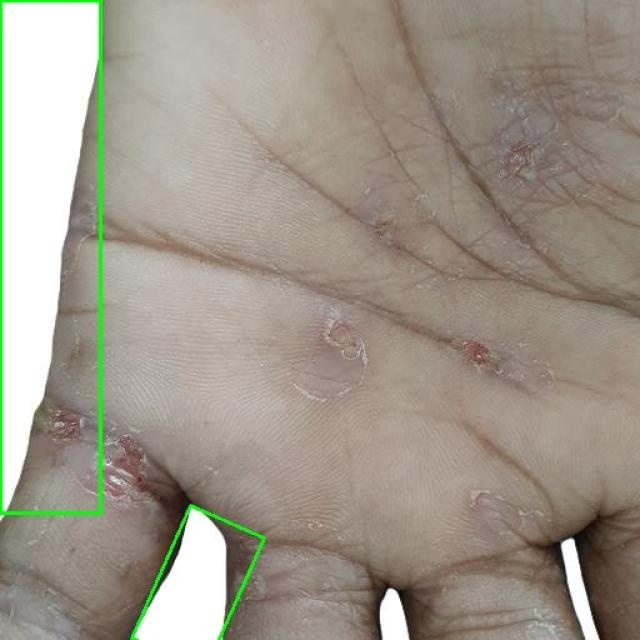Scabies: (0, 0, 100, 512), (132, 505, 265, 640)
